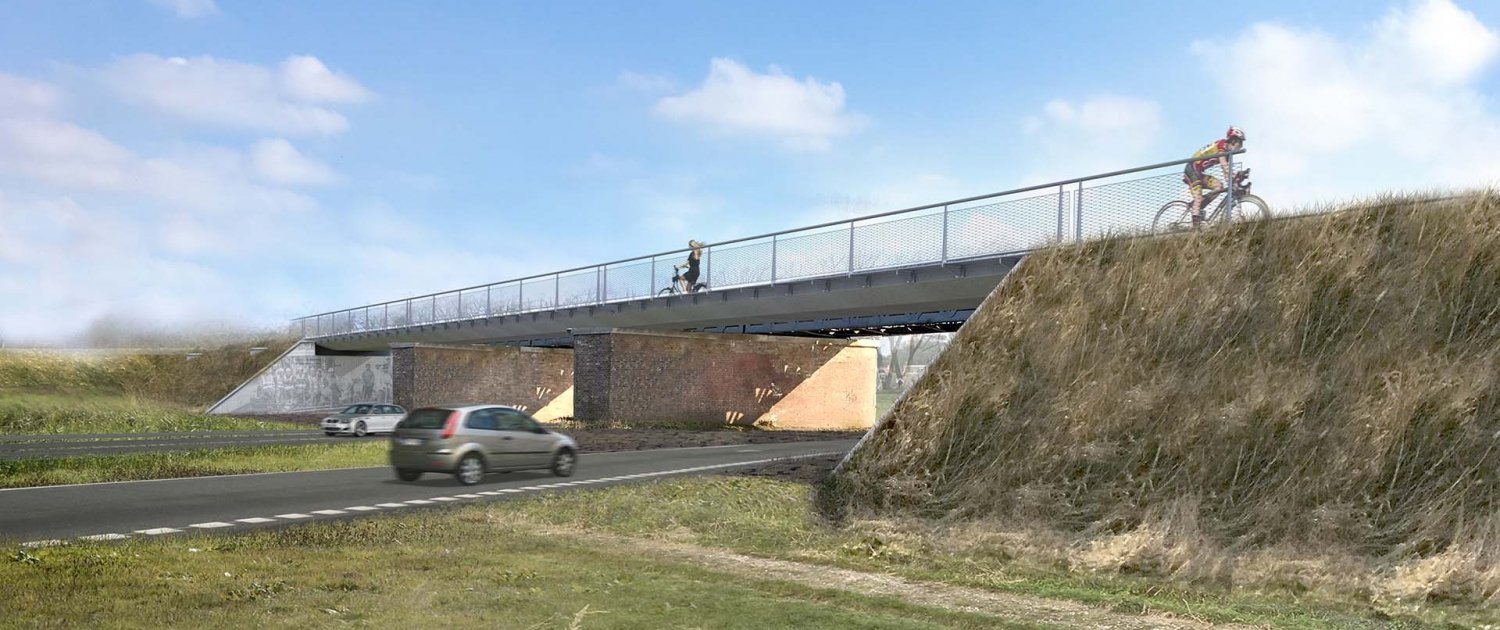bridge: (296, 149, 1214, 364)
